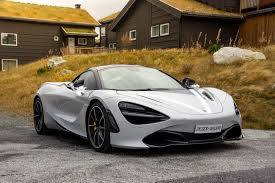car: (32, 64, 244, 154)
